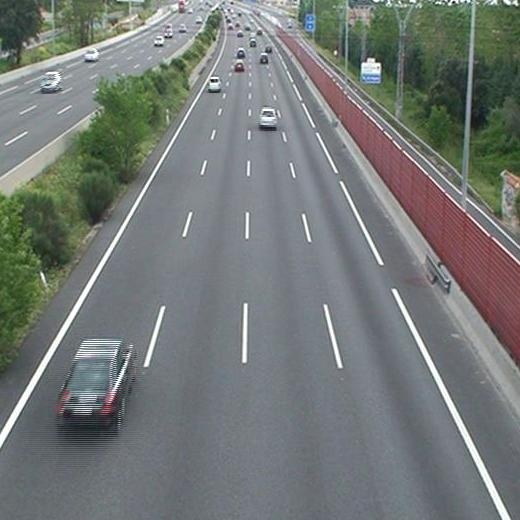car: (60, 341, 133, 420), (260, 108, 276, 127), (208, 78, 221, 92), (234, 61, 244, 71), (259, 53, 268, 64), (236, 49, 245, 58), (248, 40, 256, 47), (264, 45, 270, 50)
